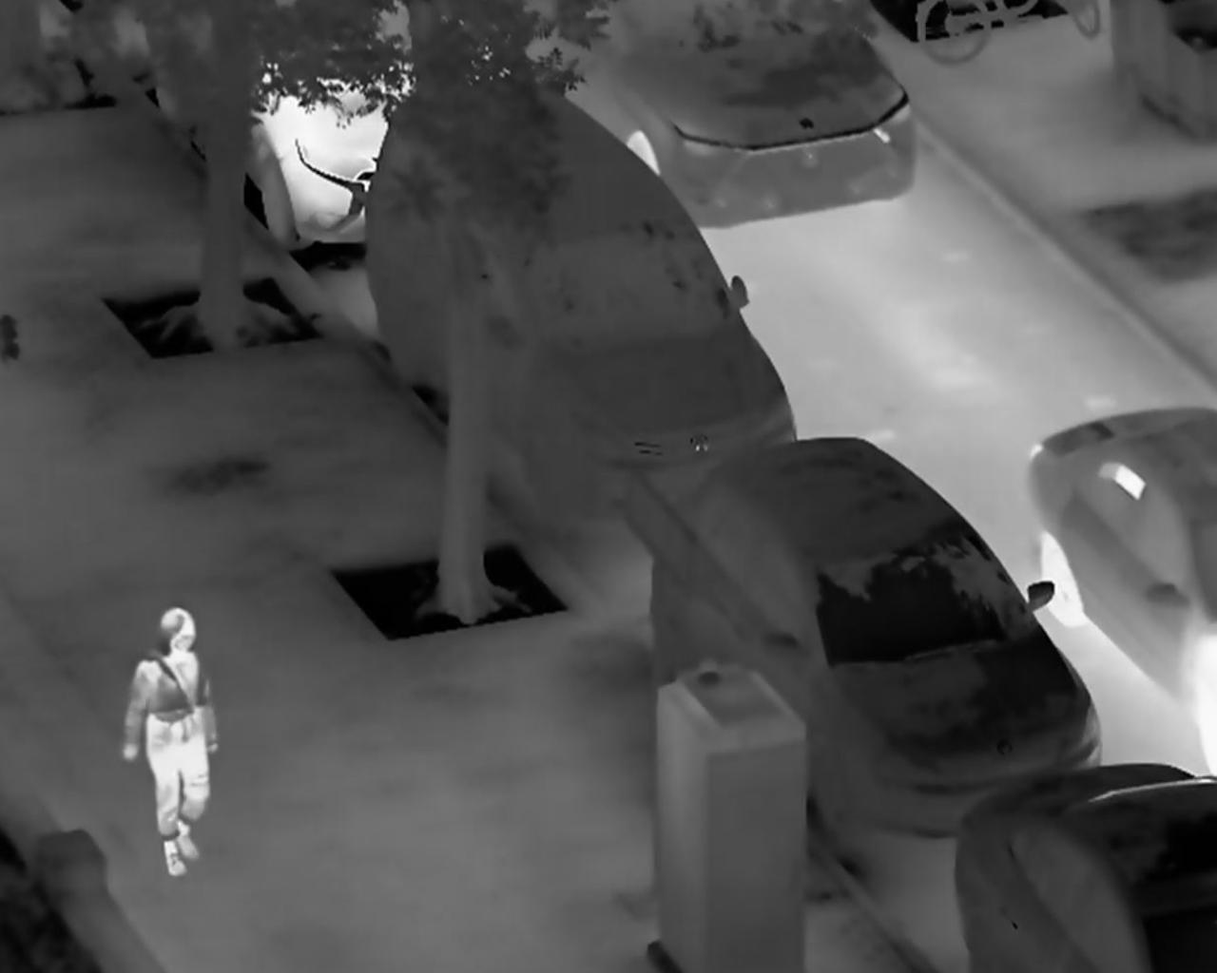person: (120, 604, 222, 878)
